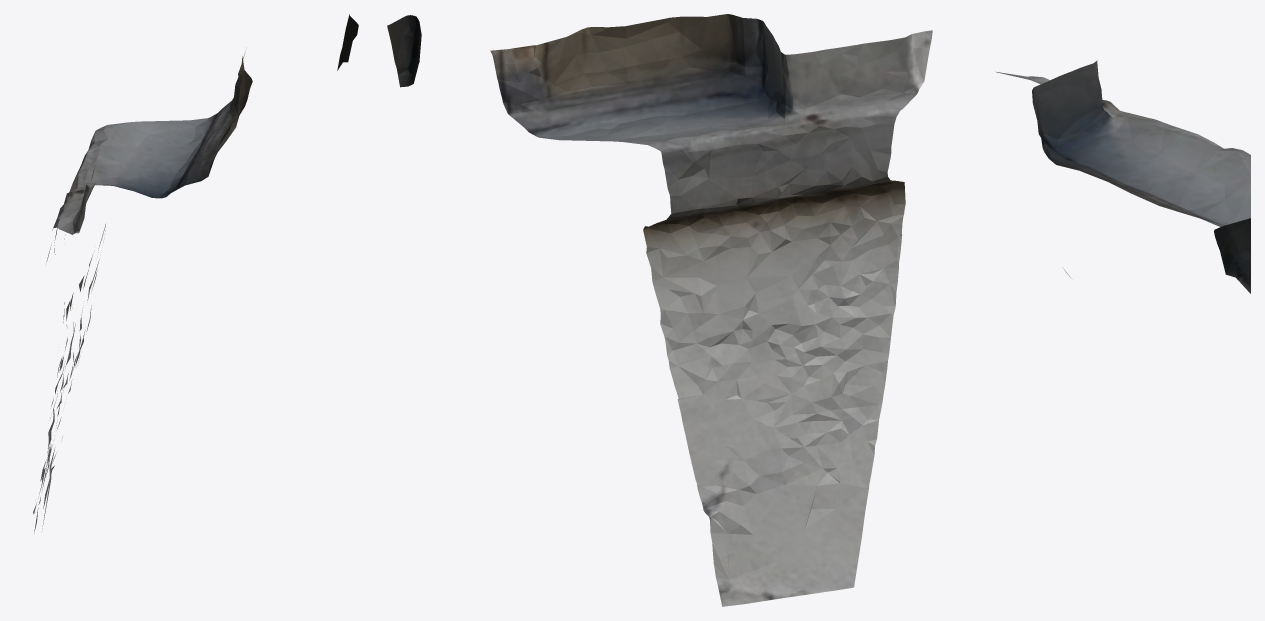
The picture shows the model from 3 angles, left to right: view 1: azimuth 30°, elevation 25°; view 2: azimuth 150°, elevation 25°; view 3: azimuth 270°, elevation 25°; orthographic projection. The views are drawn at different scales.
Bounding box in the file's own units: 0.7261 × 0.8374 × 0.3994.
2 materials, 2 textured.
